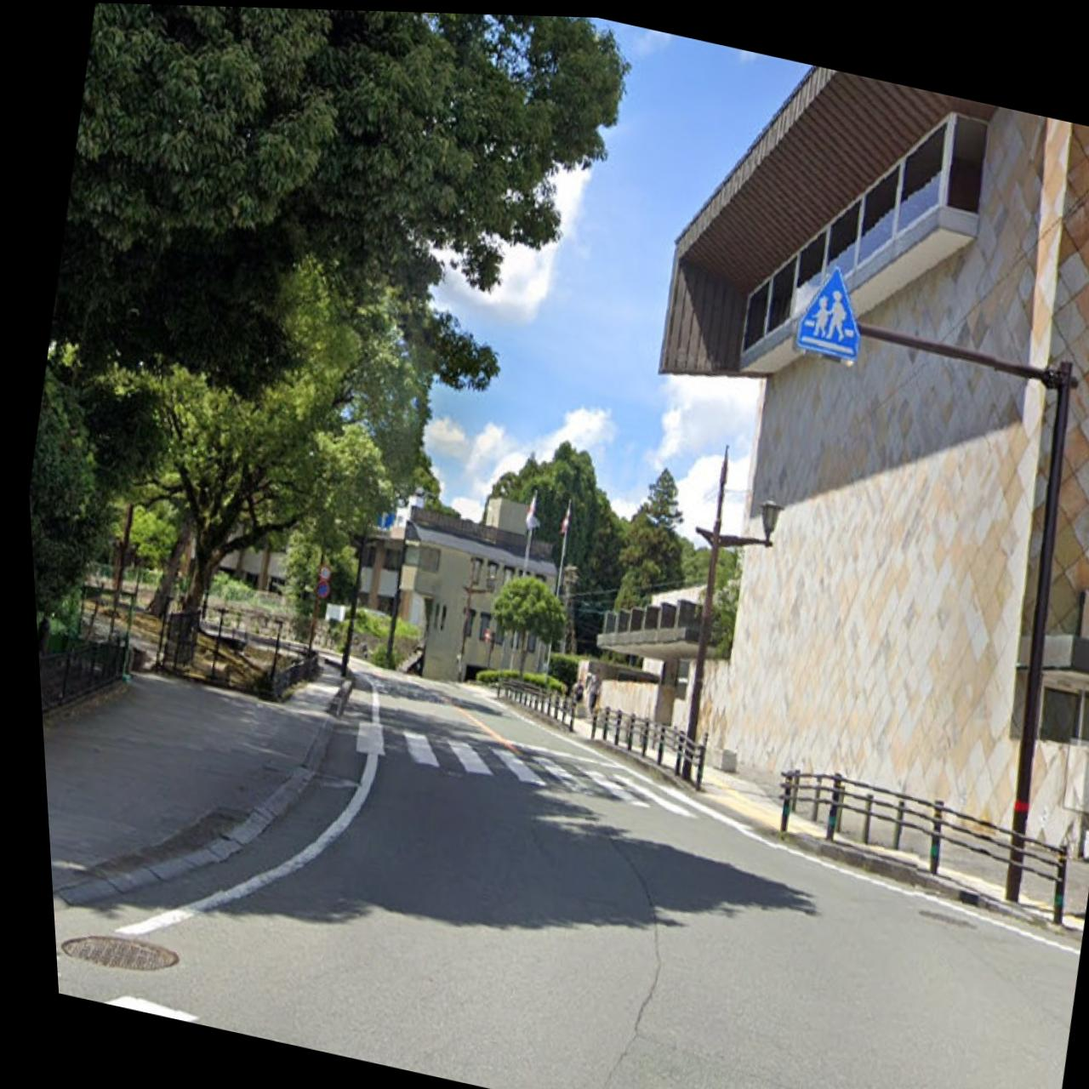cone: (400, 138, 1089, 490)
